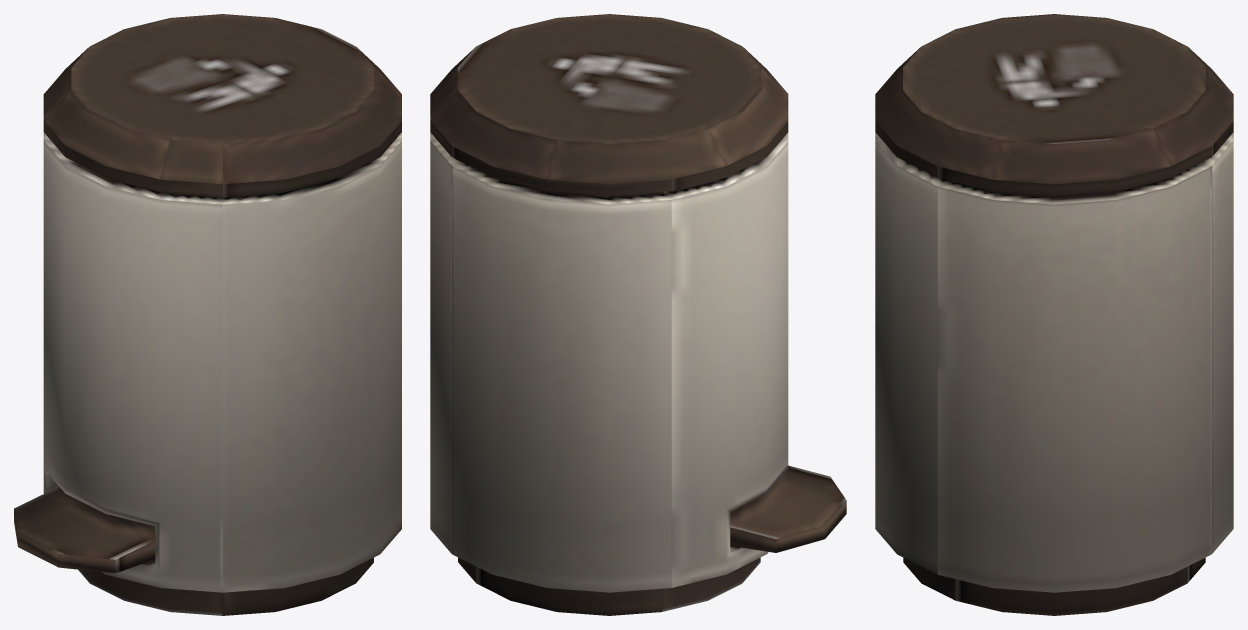
File: 3Dguoji_HDGS_LJT01_xp_ljw.FBX
The picture shows the model from 3 angles, left to right: view 1: azimuth 30°, elevation 25°; view 2: azimuth 150°, elevation 25°; view 3: azimuth 270°, elevation 25°; orthographic projection.
Visible parts, largest first — view 1: 3Dguoji_HDGS_LJT01_xp_ljw; view 2: 3Dguoji_HDGS_LJT01_xp_ljw; view 3: 3Dguoji_HDGS_LJT01_xp_ljw.
Part boxes in pixels (x1=…): 3Dguoji_HDGS_LJT01_xp_ljw: x1=14, y1=14, x2=401, y2=615; 3Dguoji_HDGS_LJT01_xp_ljw: x1=430, y1=14, x2=846, y2=615; 3Dguoji_HDGS_LJT01_xp_ljw: x1=875, y1=14, x2=1233, y2=615.
Size of the model in its own units: 0.2843 by 0.3487 by 0.2398.
